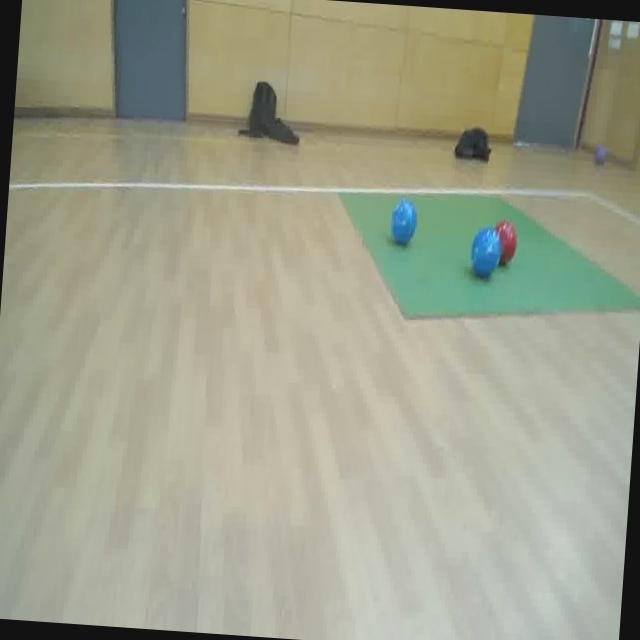blue_ball: (468, 224, 502, 281), (386, 194, 421, 248)
purple_ball: (593, 143, 608, 168)
red_ball: (494, 213, 520, 264)
